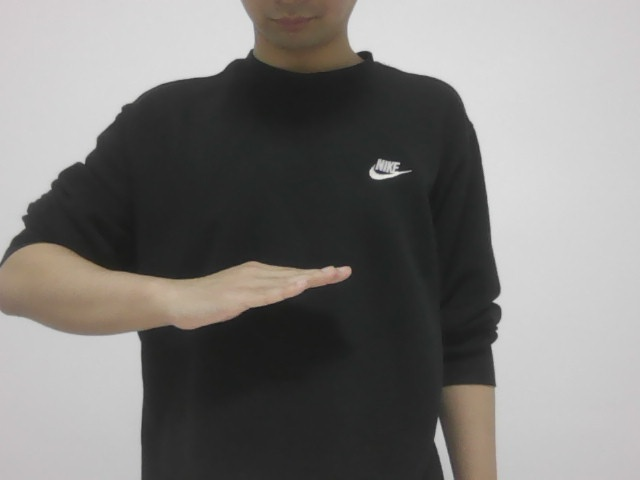safe: (172, 244, 366, 342)
